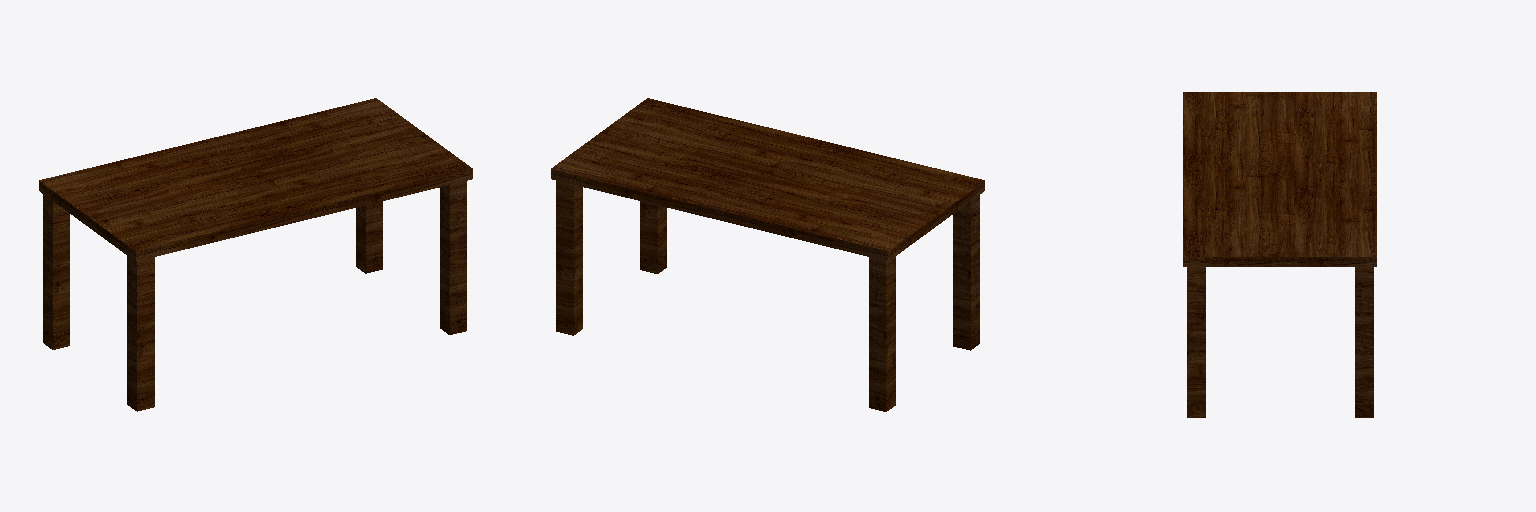
3 views of the same model, side by side, from view 1: azimuth 30°, elevation 25°; view 2: azimuth 150°, elevation 25°; view 3: azimuth 270°, elevation 25° (orthographic).
Visible parts, largest first — view 1: Box001, Box003, Box004, Box002, Box005; view 2: Box001, Box002, Box005, Box003, Box004; view 3: Box001, Box004, Box005.
Boxes of the visible parts, <box> form: Box001: <box>39,98,472,261</box>; Box003: <box>127,256,154,411</box>; Box004: <box>440,181,466,334</box>; Box002: <box>43,194,69,349</box>; Box005: <box>356,201,382,273</box>; Box001: <box>551,98,984,261</box>; Box002: <box>869,256,895,411</box>; Box005: <box>556,181,582,335</box>; Box003: <box>953,195,979,350</box>; Box004: <box>640,201,666,273</box>; Box001: <box>1183,92,1376,266</box>; Box004: <box>1187,267,1205,417</box>; Box005: <box>1355,267,1373,417</box>.
Size of the model in its own units: 19.83 by 9.13 by 9.86.
Materials: 1 (1 with a texture image).